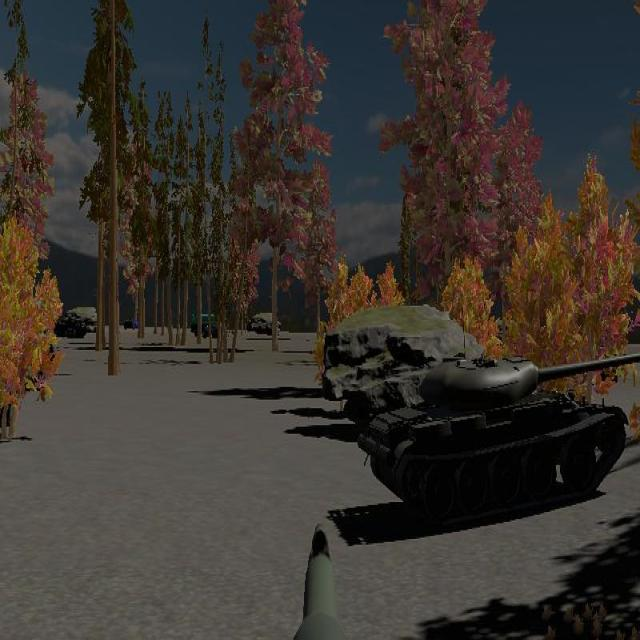Tank: (358, 348, 639, 526)
car: (191, 312, 225, 339)
